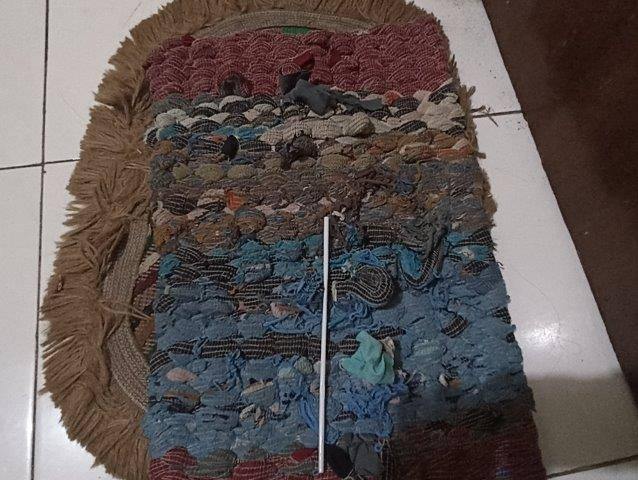sedotan: (319, 218, 329, 474)
